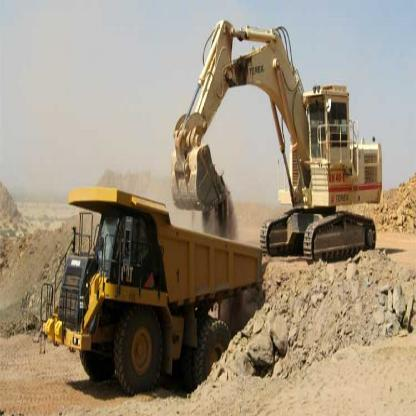dump_truck: (41, 174, 270, 402)
excavator: (169, 6, 384, 260)
